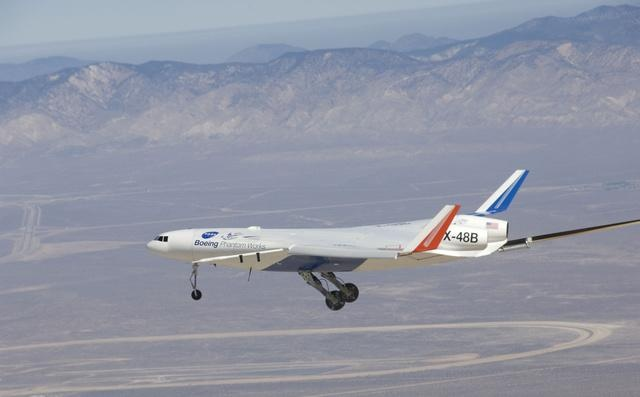airplane: (145, 167, 640, 315)
